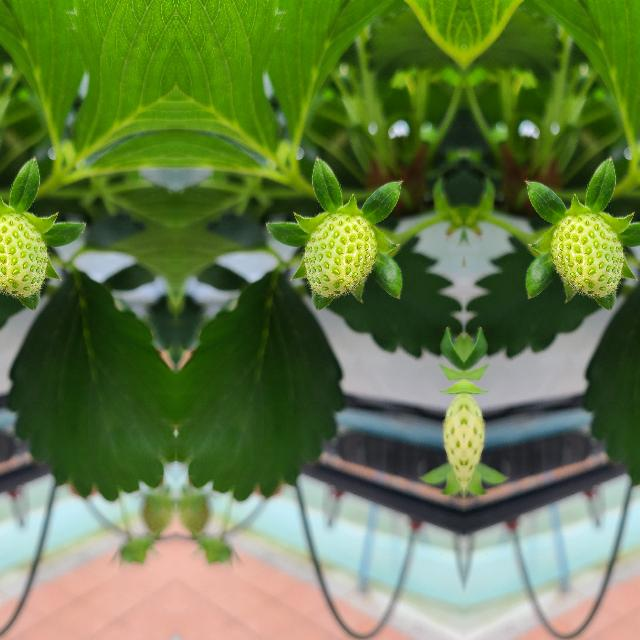Health_25: (302, 214, 376, 296), (550, 214, 624, 296), (0, 213, 47, 296)
